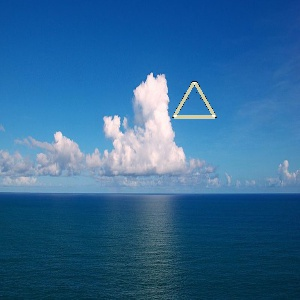triangle: (169, 78, 220, 122)
